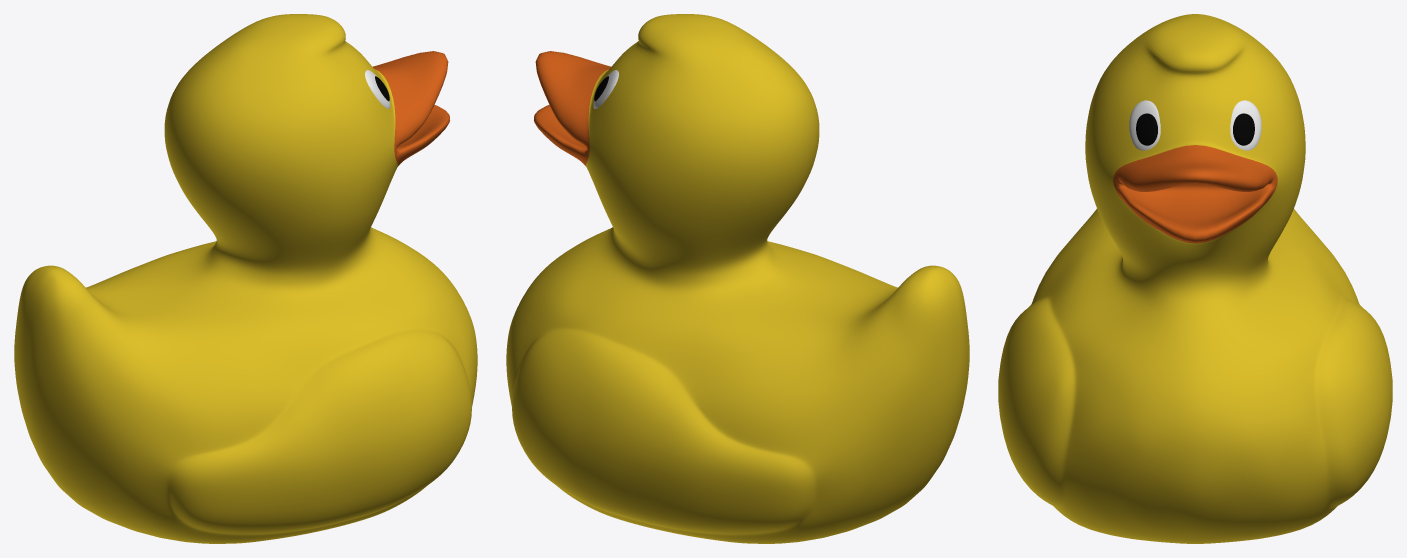
Rendered from ToyDuck.glb.
3 views of the same model, side by side, from view 1: azimuth 30°, elevation 25°; view 2: azimuth 150°, elevation 25°; view 3: azimuth 270°, elevation 25° (orthographic). The views are drawn at different scales.
Parts seen in each view (by area): view 1: Duck001; view 2: Duck001; view 3: Duck001.
Boxes of the visible parts, bbox=[...] form: Duck001: bbox=[14, 14, 477, 543]; Duck001: bbox=[506, 14, 969, 543]; Duck001: bbox=[998, 14, 1392, 543].
Bounding box in the file's own units: 1.61 × 1.66 × 1.23.
